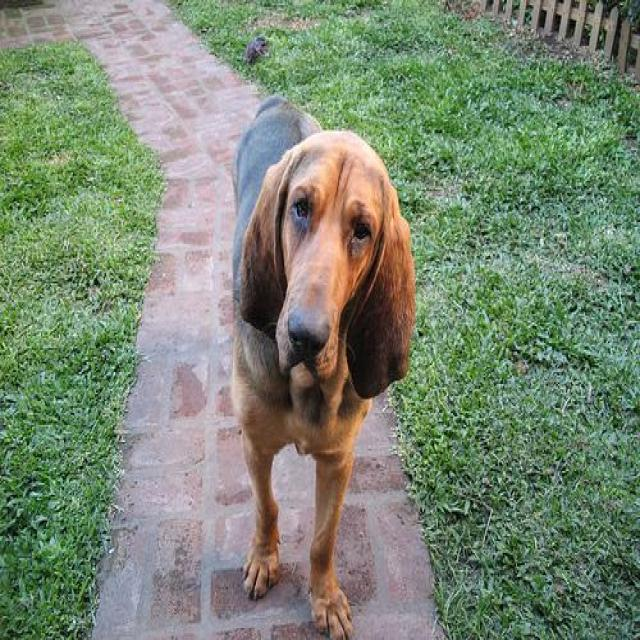bloodhound: (229, 92, 415, 635)
